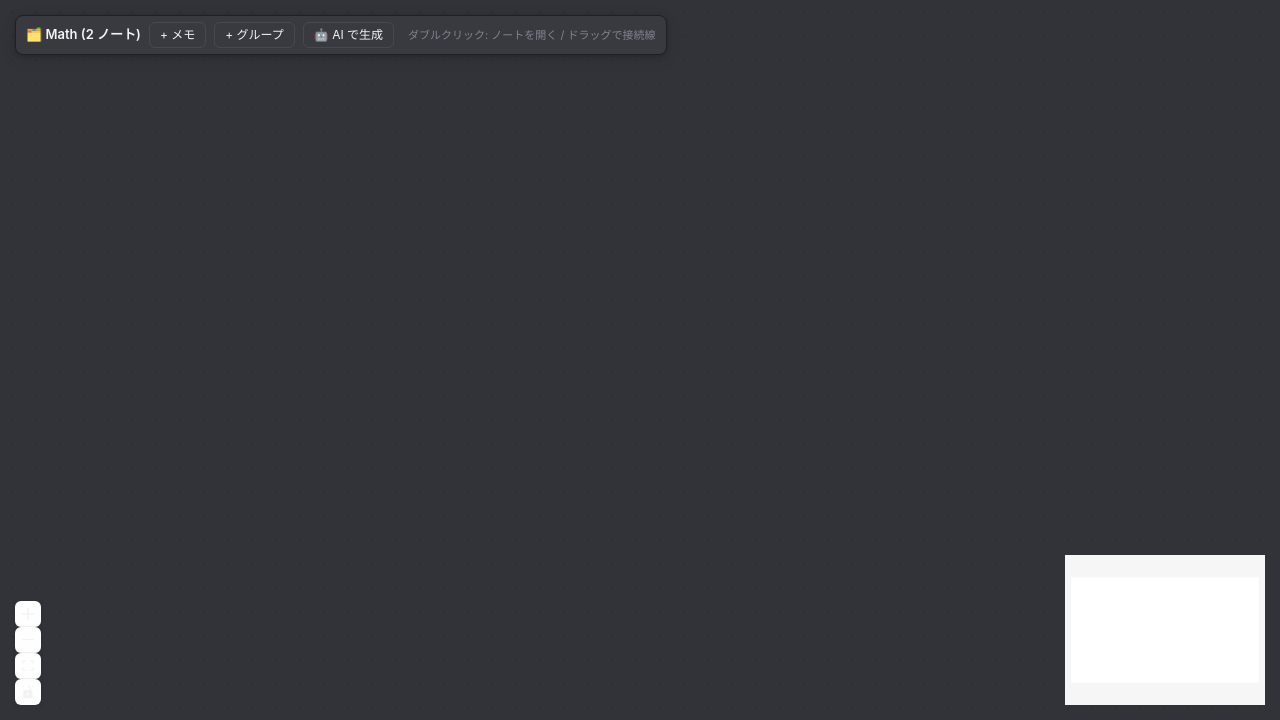
Test: CanvasView actions › generates AI canvas from overview note
Click the button "🤖 AI で生成" at coordinates (348, 35), box [303,22,394,48]
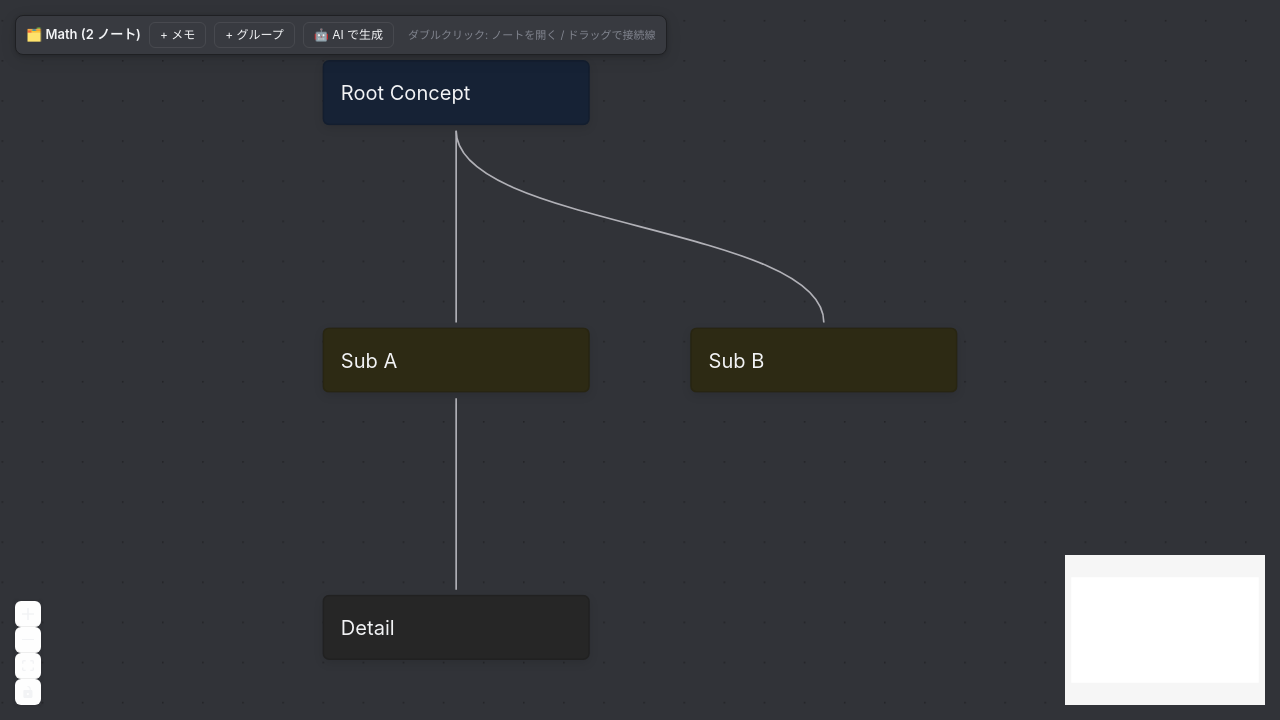
Now the text "Root Concept" is shown, box [341,80,470,105]
Now the text "Sub A" is shown, box [341,348,397,373]
Now the text "Detail" is shown, box [341,615,395,640]
